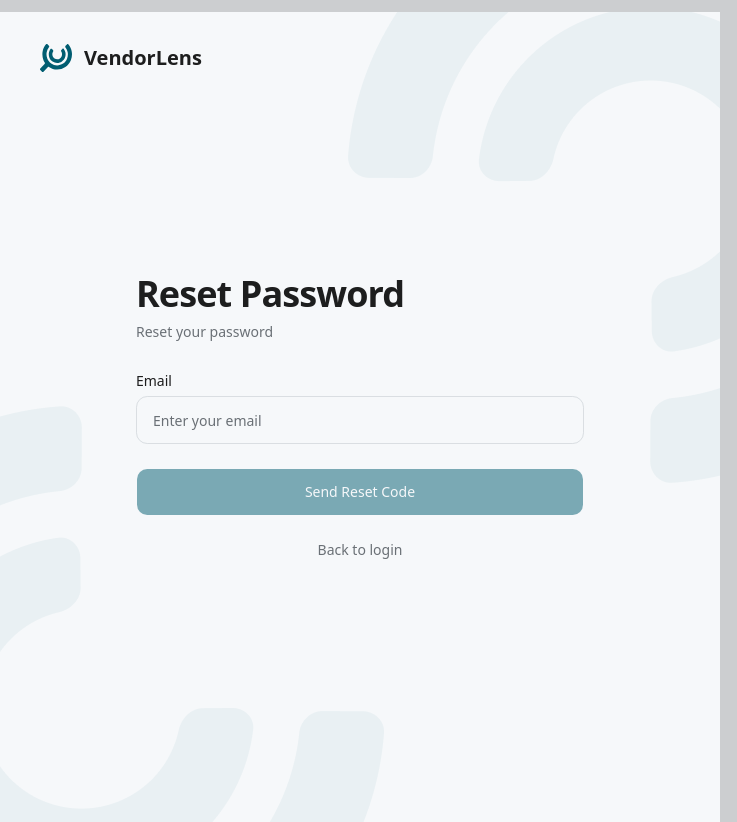
Test case: ForgotPasswordPage › Step 1 - email › advances to the OTP step on success
Type "user@example.com" into the field with test id "email-input" at point(360, 420), box [136,396,584,444]
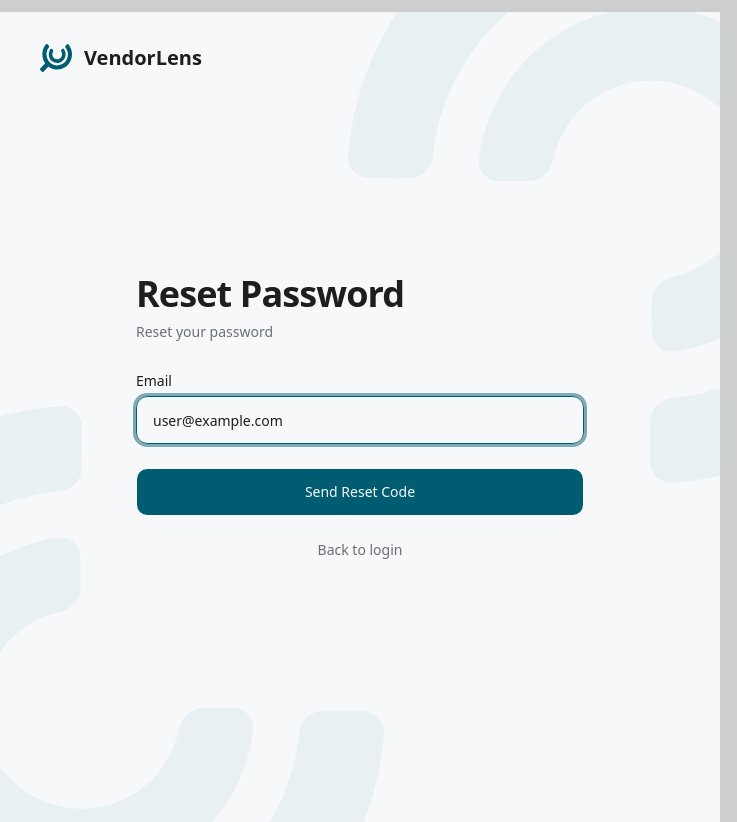
Click the button "Send Reset Code" at point(360, 492), box [136,468,584,516]
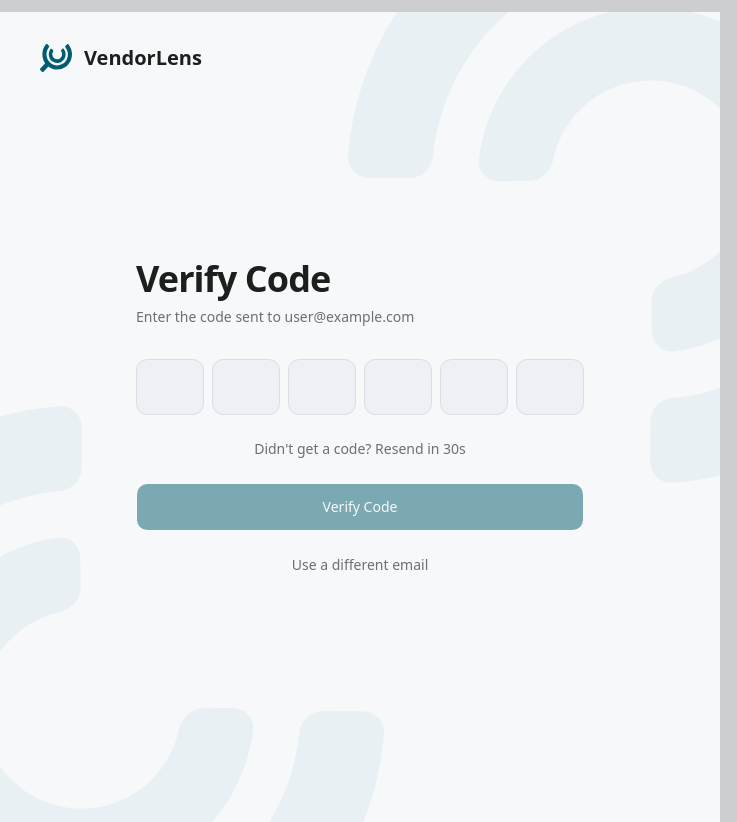
Now the field with test id "otp-box-0" is shown, box [136,359,204,415]
